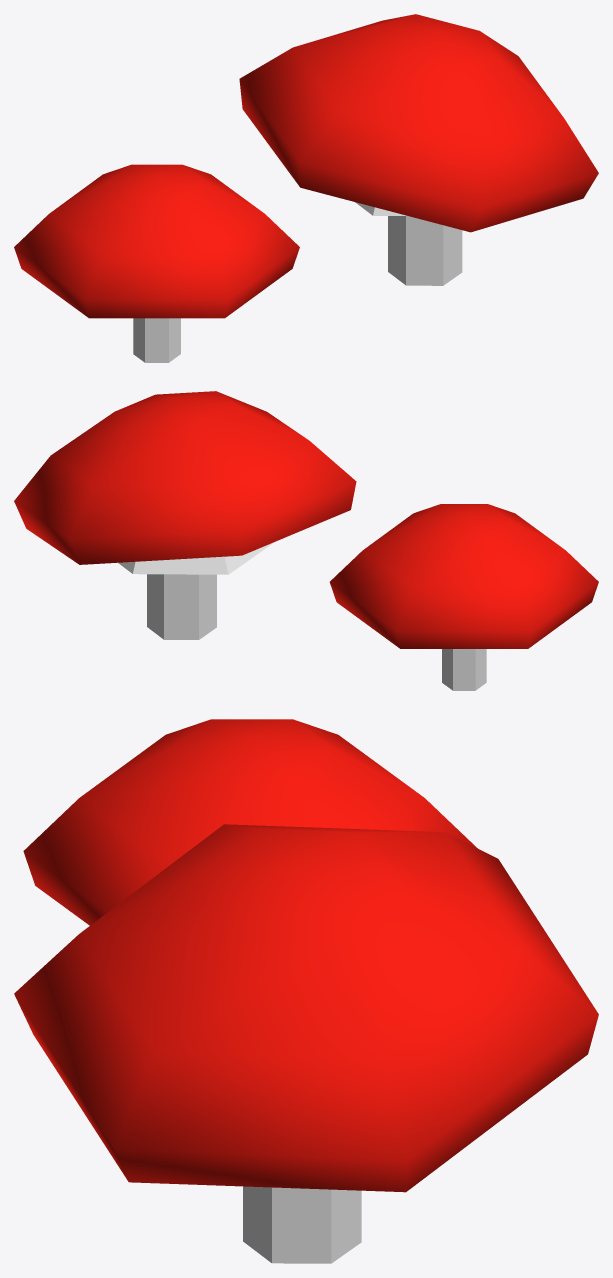
File: mesh_mushroom_02.fbx
3 renders of one model, top to bottom at view 1: azimuth 30°, elevation 25°; view 2: azimuth 150°, elevation 25°; view 3: azimuth 270°, elevation 25°, orthographic. The views are drawn at different scales.
Parts seen in each view (by area): view 1: mesh_mushroom_02; view 2: mesh_mushroom_02; view 3: mesh_mushroom_02.
Boxes of the visible parts, x1,y1,x2,y2 form: mesh_mushroom_02: (14,14,598,362); mesh_mushroom_02: (14,391,598,690); mesh_mushroom_02: (14,719,598,1263).
Bounding box in the file's own units: 36.99 × 15.86 × 21.83.
